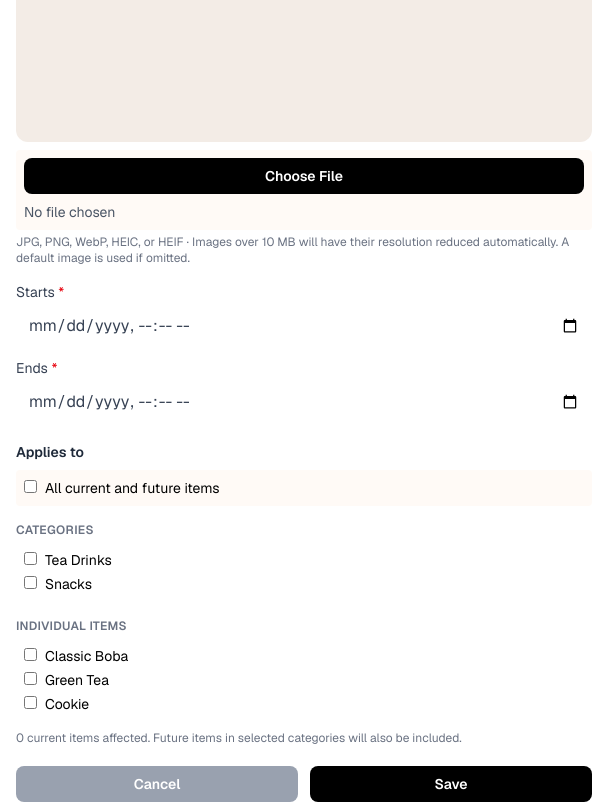
Test: Admin Events form interactions › rejects a missing event name
(page scrolled)
Click the button "Save" at [451, 784], box [310,766,592,802]
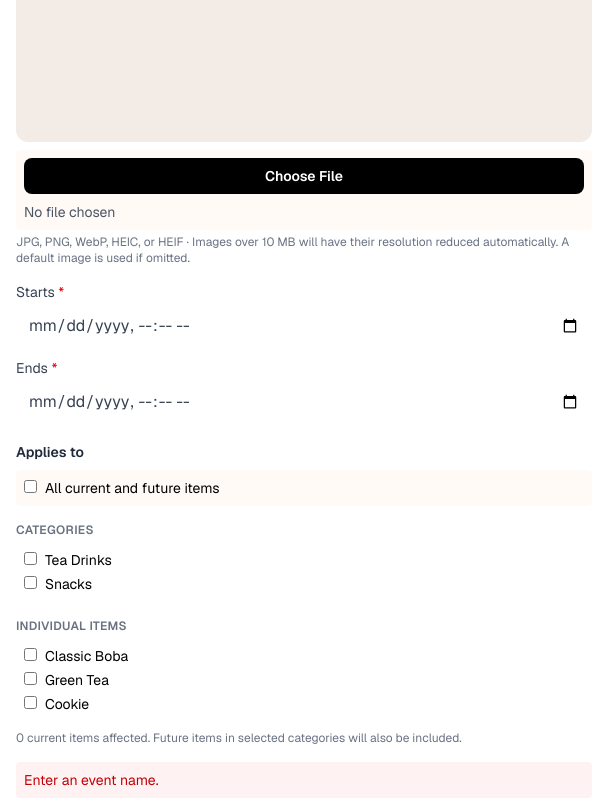
Check: the message reads "Enter an event name.", box [24,771,158,789]
